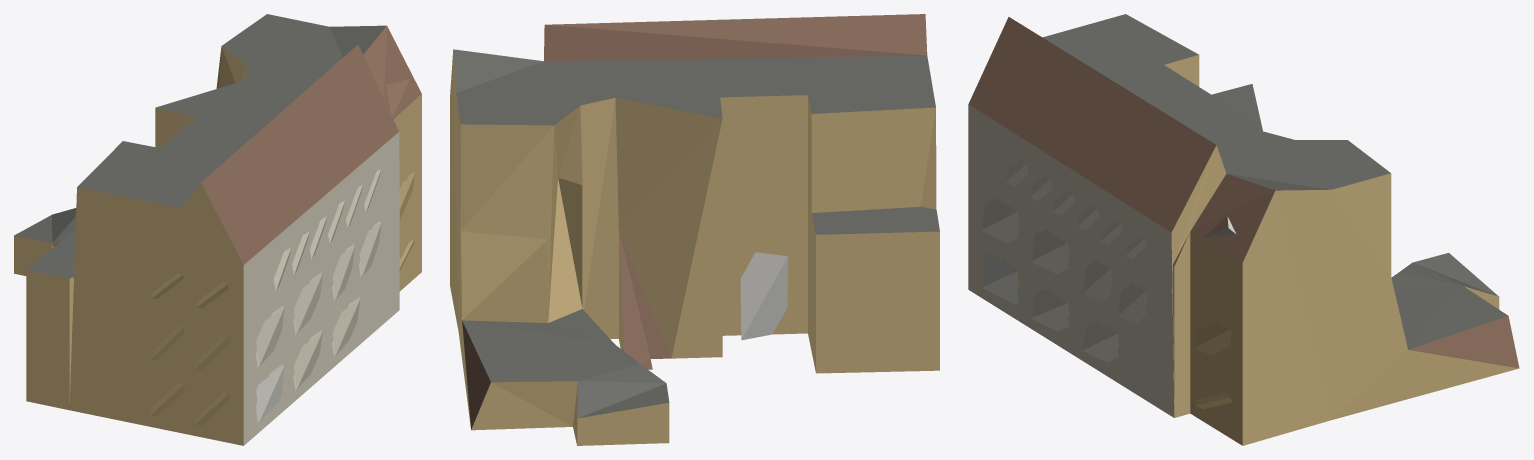
The model's file is de-coenen-coenenstraat.lod2.glb.
3 renders of one model, left to right at view 1: azimuth 30°, elevation 25°; view 2: azimuth 150°, elevation 25°; view 3: azimuth 270°, elevation 25°, orthographic. The views are drawn at different scales.
Visible parts, largest first — view 1: lod2; view 2: lod2; view 3: lod2.
Boxes of the visible parts, x1,y1,x2,y2 form: lod2: (14,14,421,445); lod2: (450,14,939,445); lod2: (968,14,1519,445).
Bounding box in the file's own units: 35.61 × 20.29 × 38.59.
